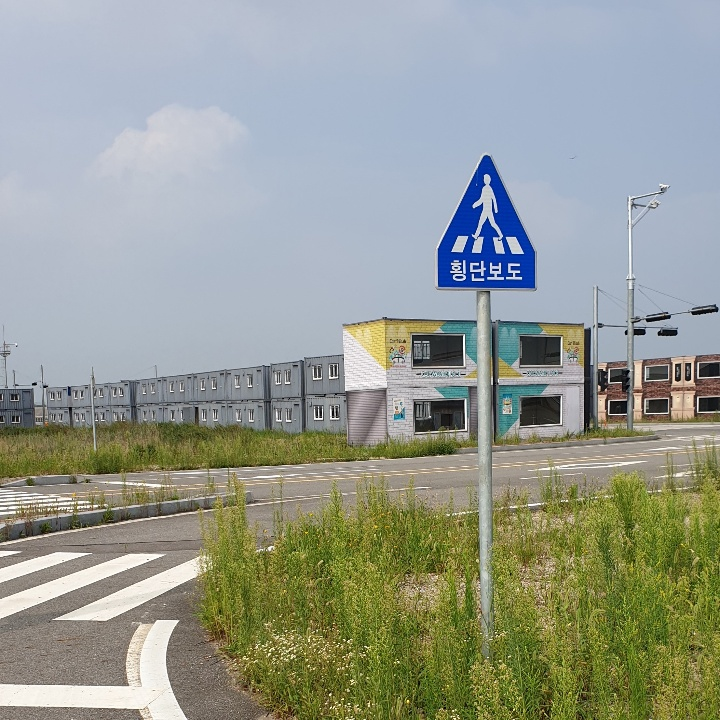cross: (465, 168, 509, 242)
